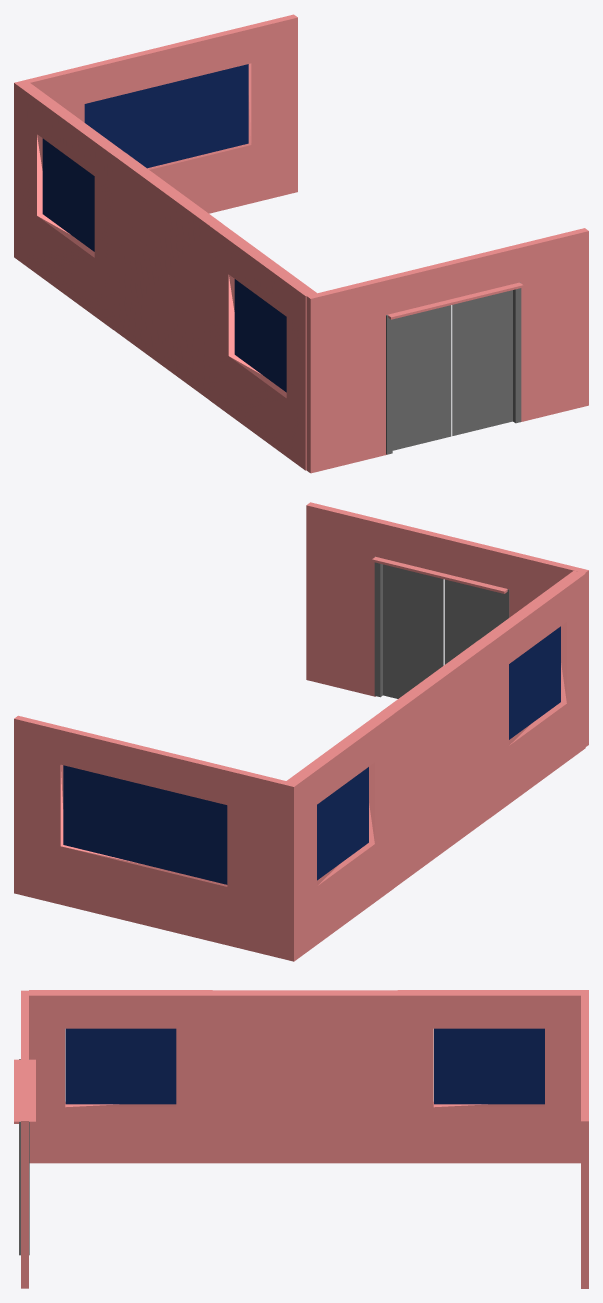
Rendered from 衣帽间.fbx.
The picture shows the model from 3 angles, top to bottom: view 1: azimuth 30°, elevation 25°; view 2: azimuth 150°, elevation 25°; view 3: azimuth 270°, elevation 25°; orthographic projection. The views are drawn at different scales.
Visible parts, largest first — view 1: 衣帽间, door1, door2, door003, door004, 对象001; view 2: 衣帽间, door1, door2, door003, 对象001; view 3: 衣帽间, 对象001, door003.
Part boxes in pixels (x1,y1,x2,y2): 衣帽间: (14,14,588,473); door1: (452,290,512,435); door2: (392,305,451,450); door003: (513,282,521,423); door004: (386,315,392,454); 对象001: (388,282,523,319); 衣帽间: (14,502,588,961); door1: (383,564,443,698); door2: (444,579,503,664); door003: (374,562,382,697); 对象001: (372,556,507,593); 衣帽间: (21,990,588,1288); 对象001: (14,1059,35,1123); door003: (19,1121,29,1255).
Size of the model in its own units: 26.25 by 15.65 by 48.64.
